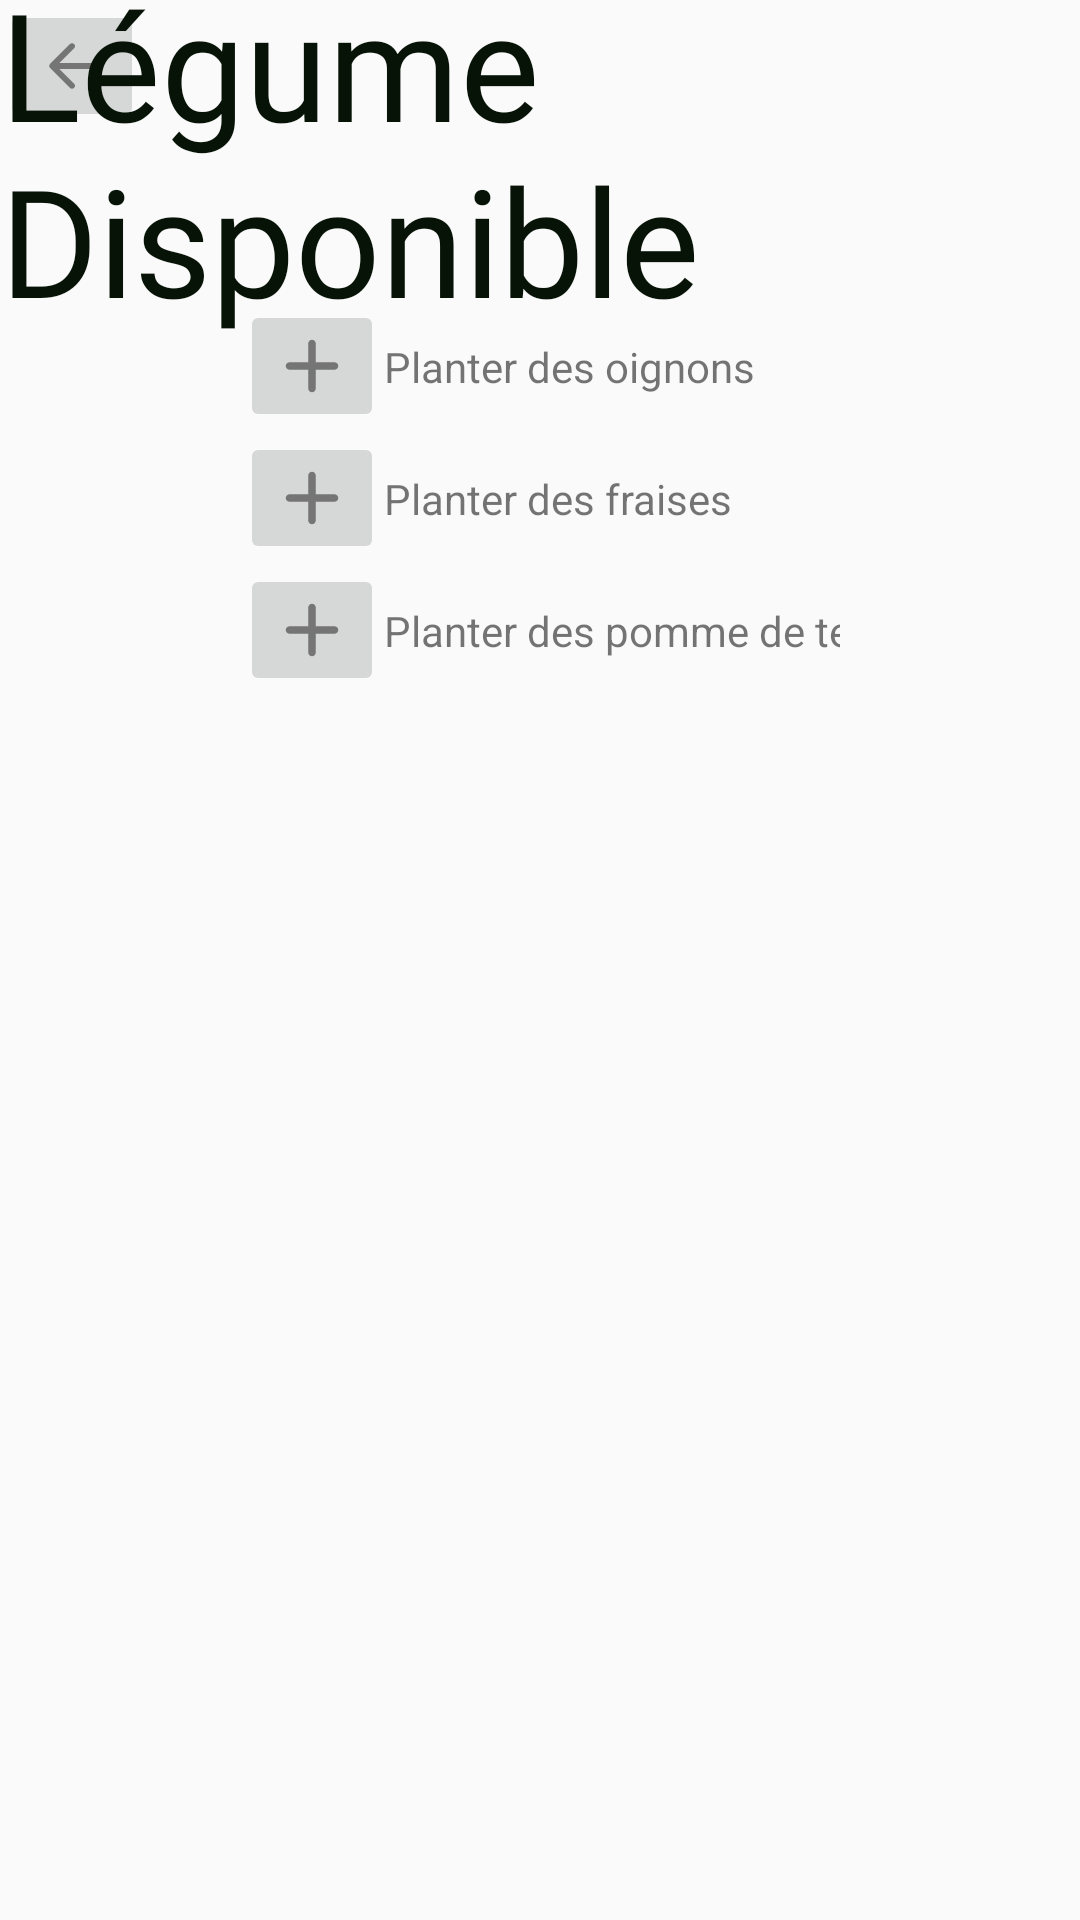

Named icons in this screenshot (1080w x 1920h) and their centers, (x,y):
add: (312,366), (312,498), (312,630)
